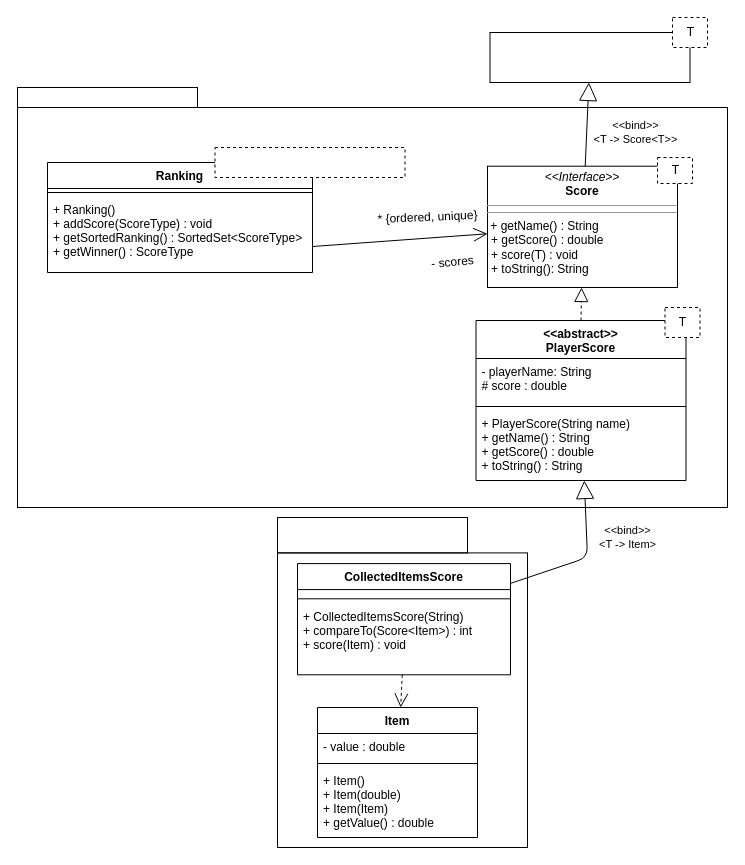
The diagram is 745 pixels wide and 865 high, and some of its shapes have lost their labels. Here are the shapes that lost their labels. From the top down, the box of each, then its label:
(489, 32, 690, 82): «interface» java.lang.Comparable
(16, 86, 198, 108): es.ua.dlsi.prog3.problema3.score
(214, 146, 405, 178): ScoreType extends Score<?>
(276, 516, 468, 553): es.ua.dlsi.prog3.problema3.game
